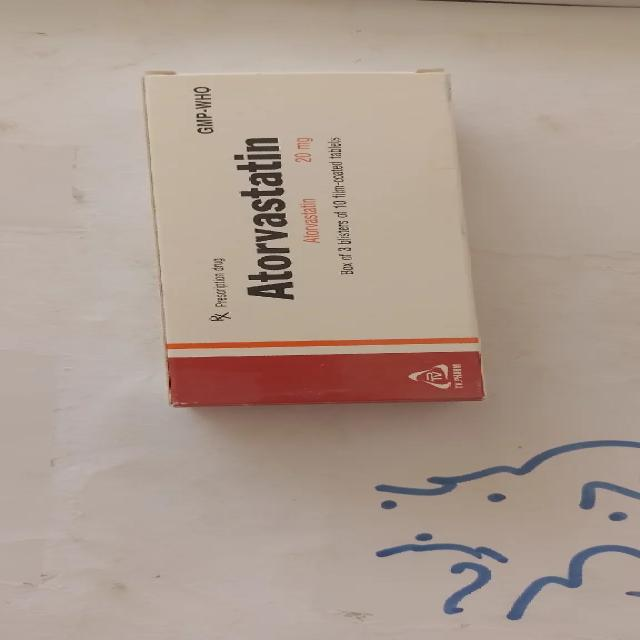drug-name: (230, 127, 298, 310)
